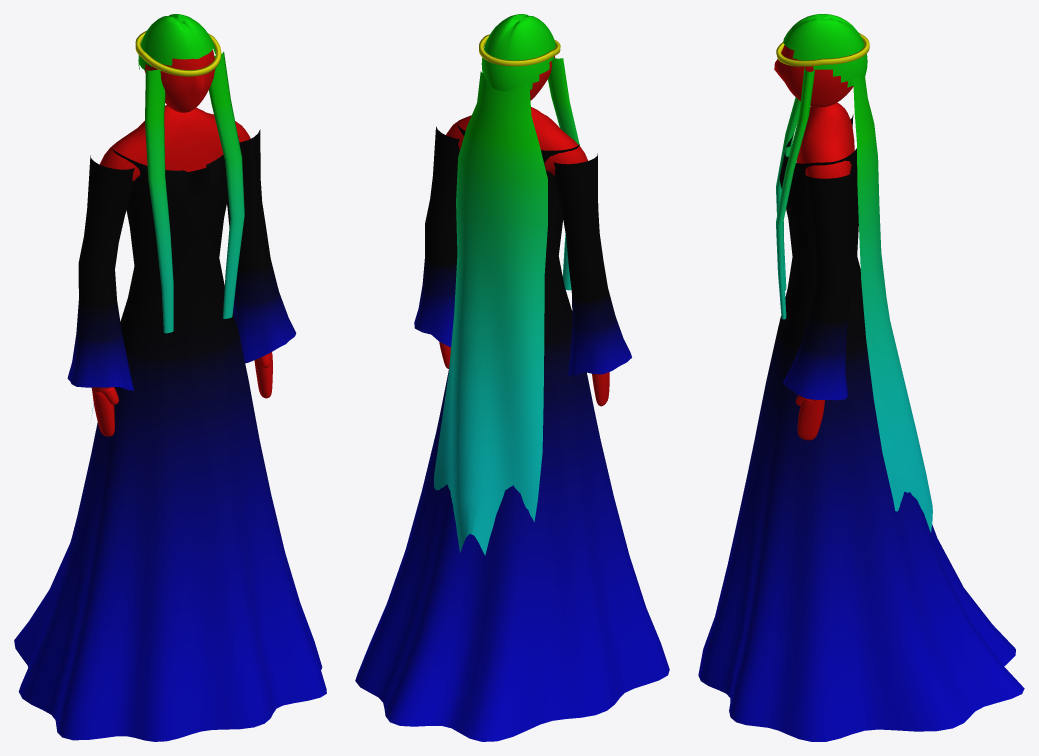
Rendered from spirit-lod0.glb.
3 renders of one model, left to right at view 1: azimuth 30°, elevation 25°; view 2: azimuth 150°, elevation 25°; view 3: azimuth 270°, elevation 25°, orthographic. The views are drawn at different scales.
Visible parts, largest first — view 1: SpiritLOD0; view 2: SpiritLOD0; view 3: SpiritLOD0.
Part boxes in pixels (bbox=[...]): SpiritLOD0: bbox=[14, 14, 326, 741]; SpiritLOD0: bbox=[355, 14, 669, 741]; SpiritLOD0: bbox=[698, 14, 1024, 741].
Bounding box in the file's own units: 0.4254 × 1.01 × 0.4504.
